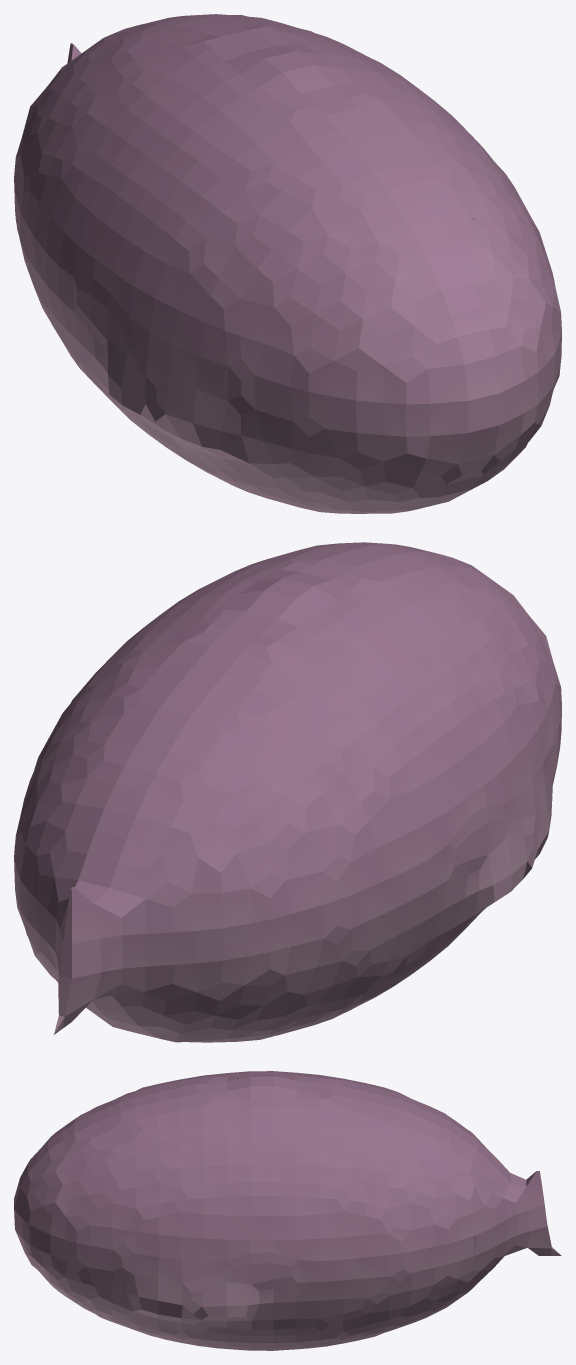
File: deepSeaFish.glb
The picture shows the model from 3 angles, top to bottom: view 1: azimuth 30°, elevation 25°; view 2: azimuth 150°, elevation 25°; view 3: azimuth 270°, elevation 25°; orthographic projection. The views are drawn at different scales.
Parts seen in each view (by area): view 1: geometry_0; view 2: geometry_0; view 3: geometry_0.
Part boxes in pixels (bbox=[...]): geometry_0: bbox=[14, 14, 561, 513]; geometry_0: bbox=[14, 542, 561, 1042]; geometry_0: bbox=[14, 1071, 561, 1350].
Bounding box in the file's own units: 0.8522 × 0.8387 × 1.63.
1 material, 1 textured.
